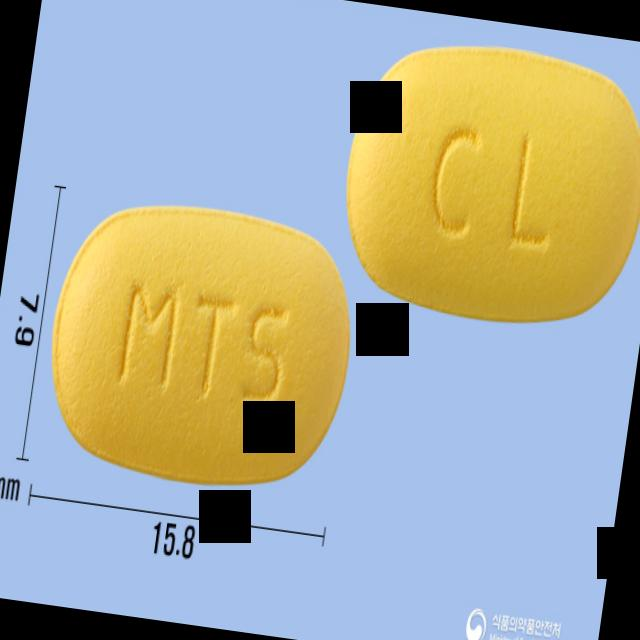Clarimacin - 500mg: (32, 184, 371, 512), (330, 30, 640, 338)
